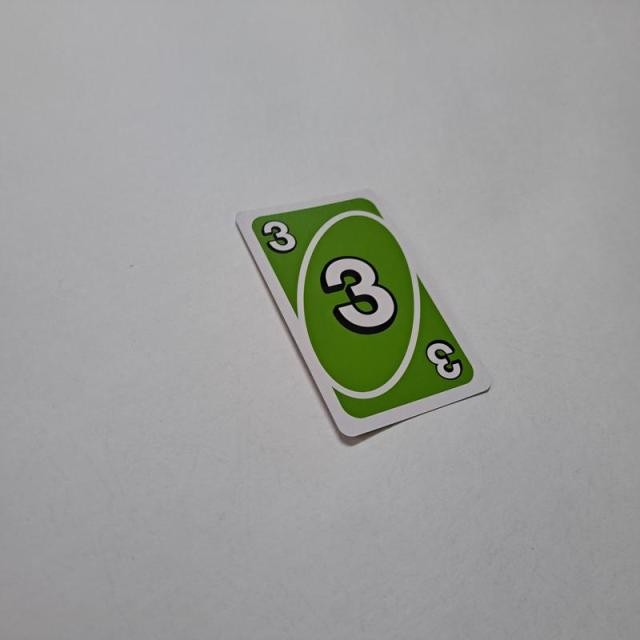Green_Card: (248, 194, 476, 420)
Number_3: (260, 212, 302, 256)
